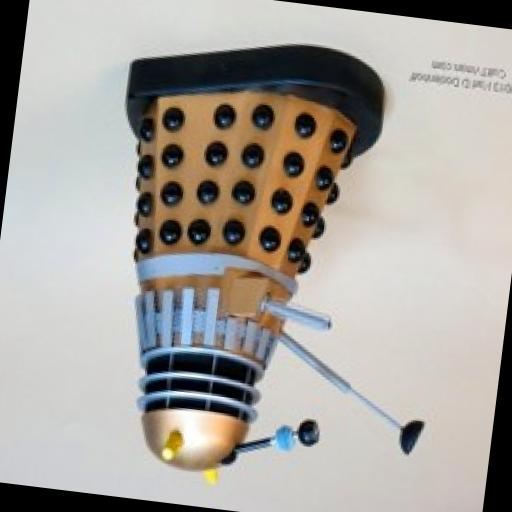dalek: (77, 23, 488, 512)
